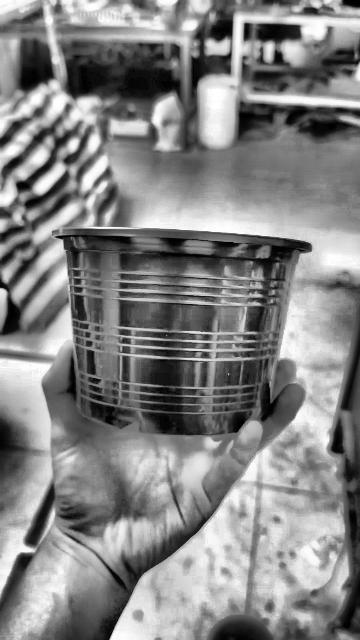pot: (53, 227, 310, 435)
